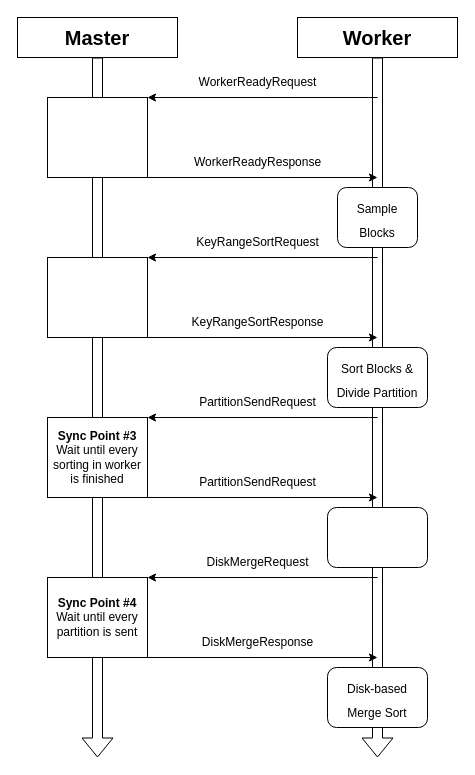
Image size: 475x775. Some labels were removed from this diagram. The shapes that lost their labels are listed below. From the top down, each one's box as (x1, y1, x2, y2) in pixels, then its label:
(46, 96, 148, 178): Sync Point #1 Wait until every worker is ready
(46, 256, 148, 338): Sync Point #2 Gather every worker sample & decide key range
(326, 506, 428, 568): Send partition between Workers
